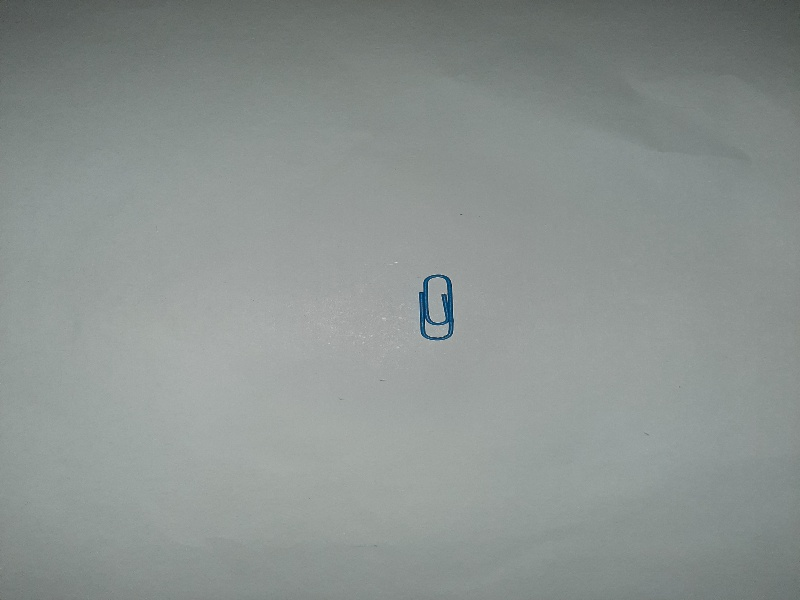Small Jumpclip: (407, 266, 466, 351)
